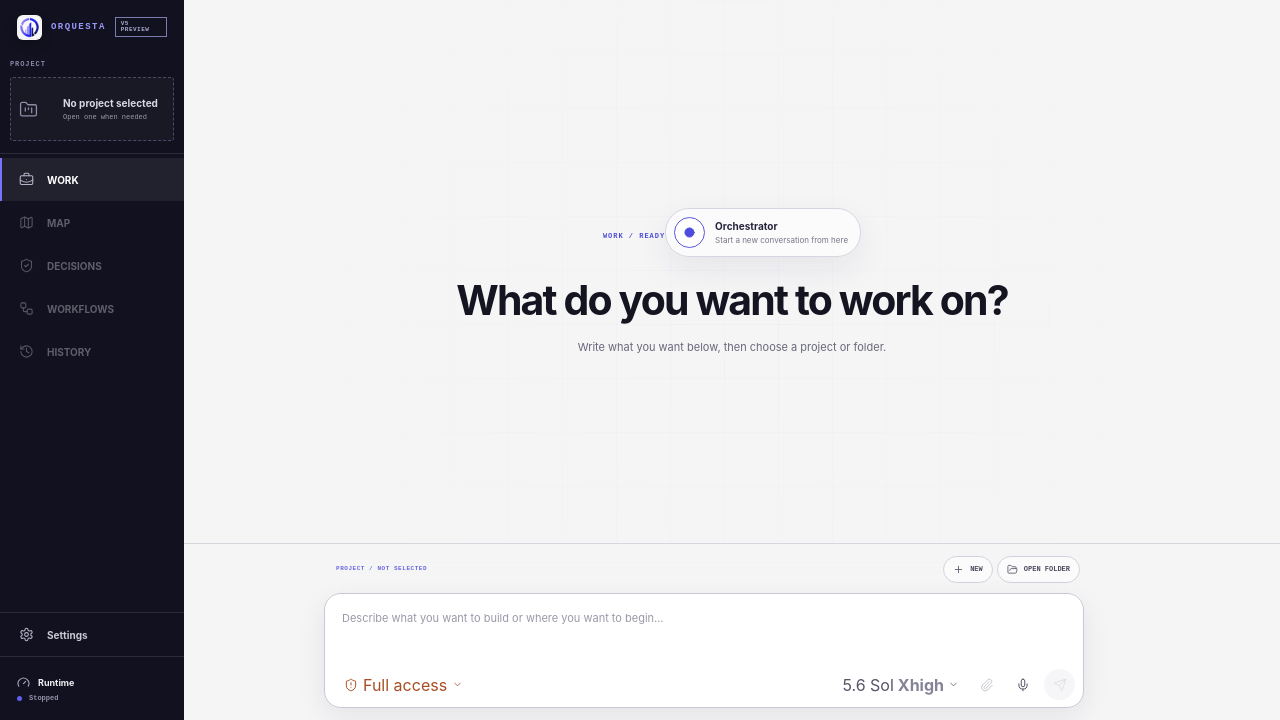
Desktop Next work-first shell › keeps an empty WORK visible before the user selects a project
The width and height of the screenshot is (1280, 720).
Expected: the heading "What do you want to work on?" is shown, [452,279,1012,322]
Expected: the element named "Orchestrator starting point" shows "Orchestrator", [715,220,778,232]
Type "Build a small customer workspace" into the text box named "Instruction to agent" at (704, 631), box [325,594,1083,669]
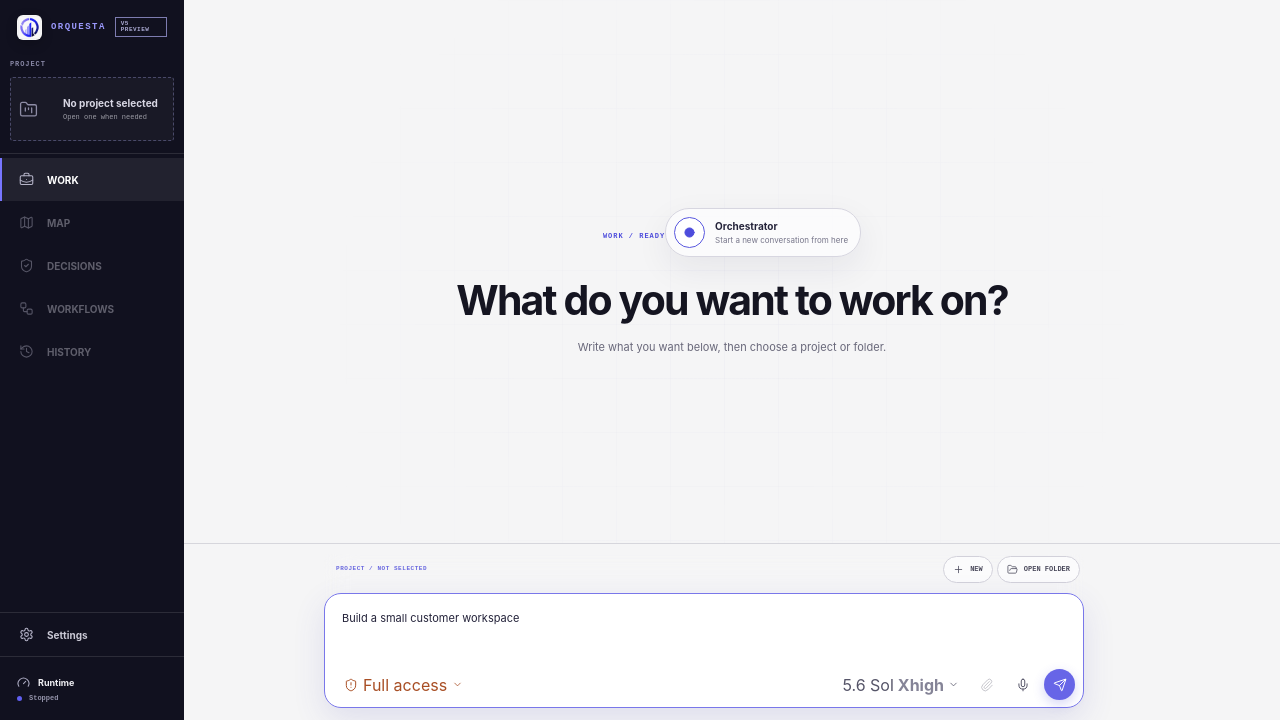
Click the button named "CREATE PROJECT" at (1060, 684), box [1044,669,1075,700]
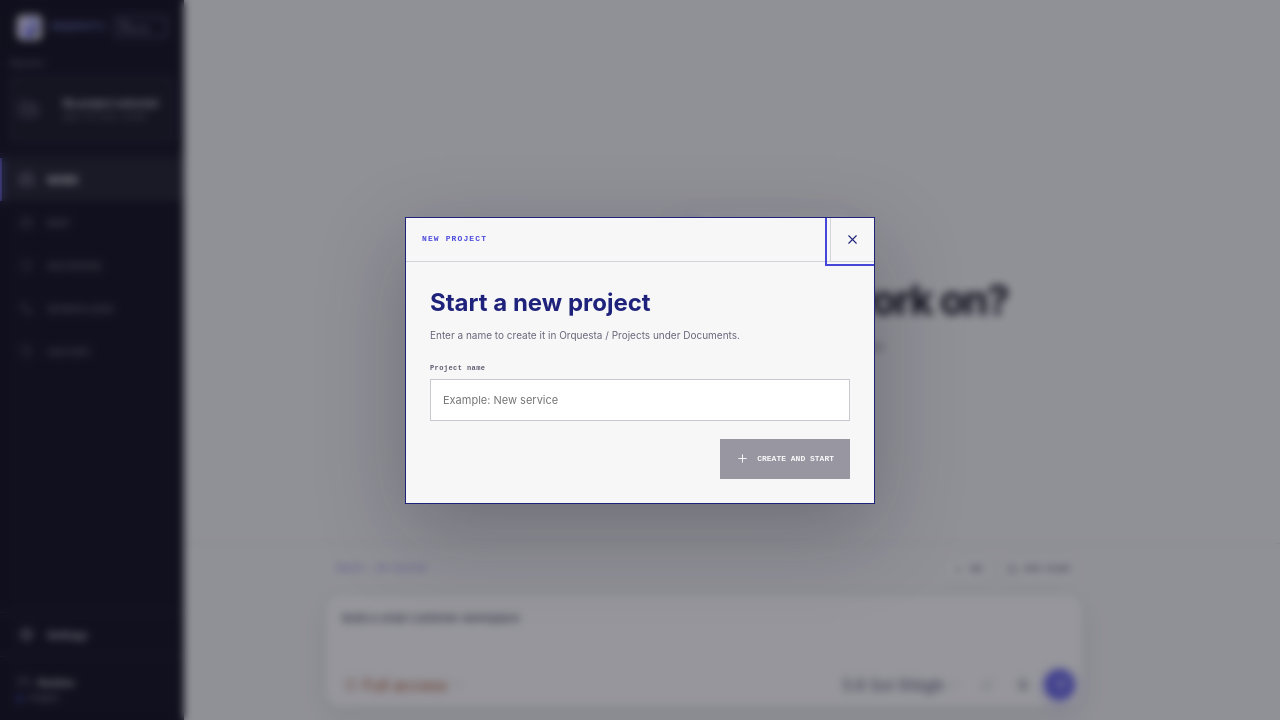
Now the dialog shows "Start a new project", box [430,288,651,316]
Now the button "CREATE AND START" is disabled, box [720,438,850,478]
